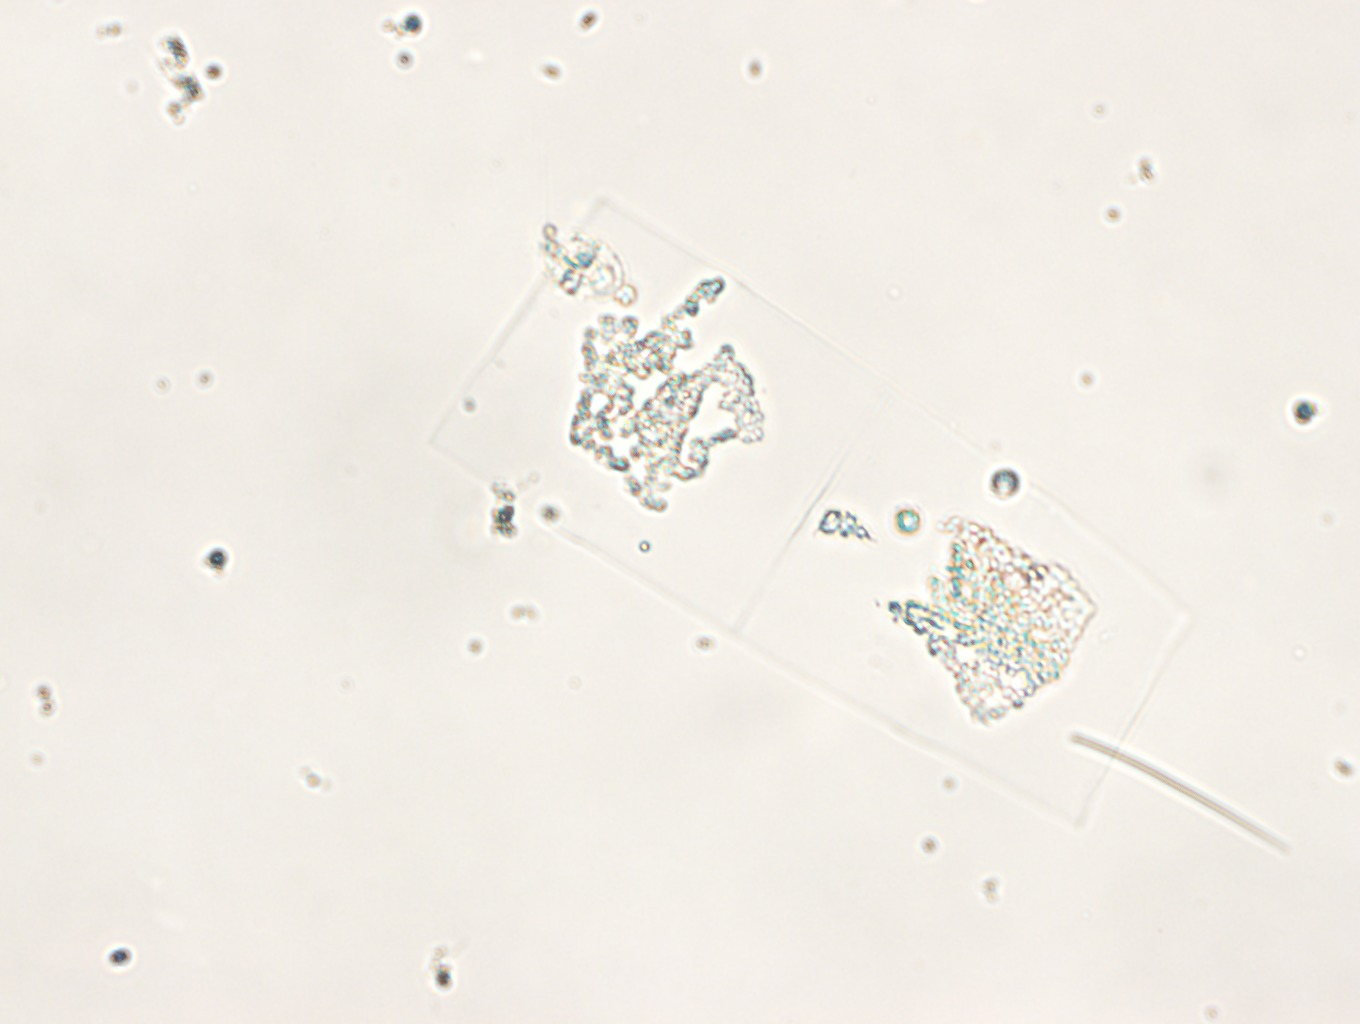helicotheca: (423, 195, 1198, 828)
